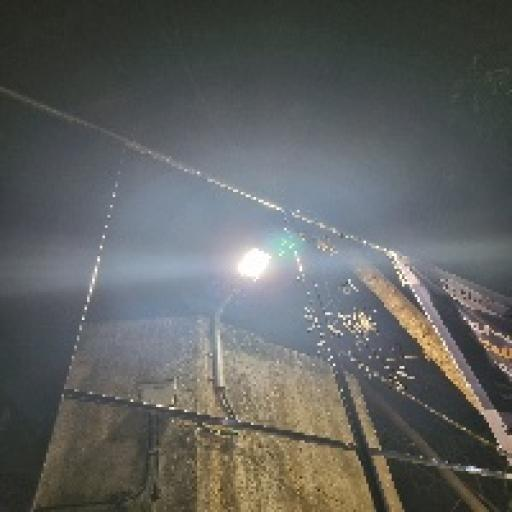Working: (224, 242, 276, 286)
